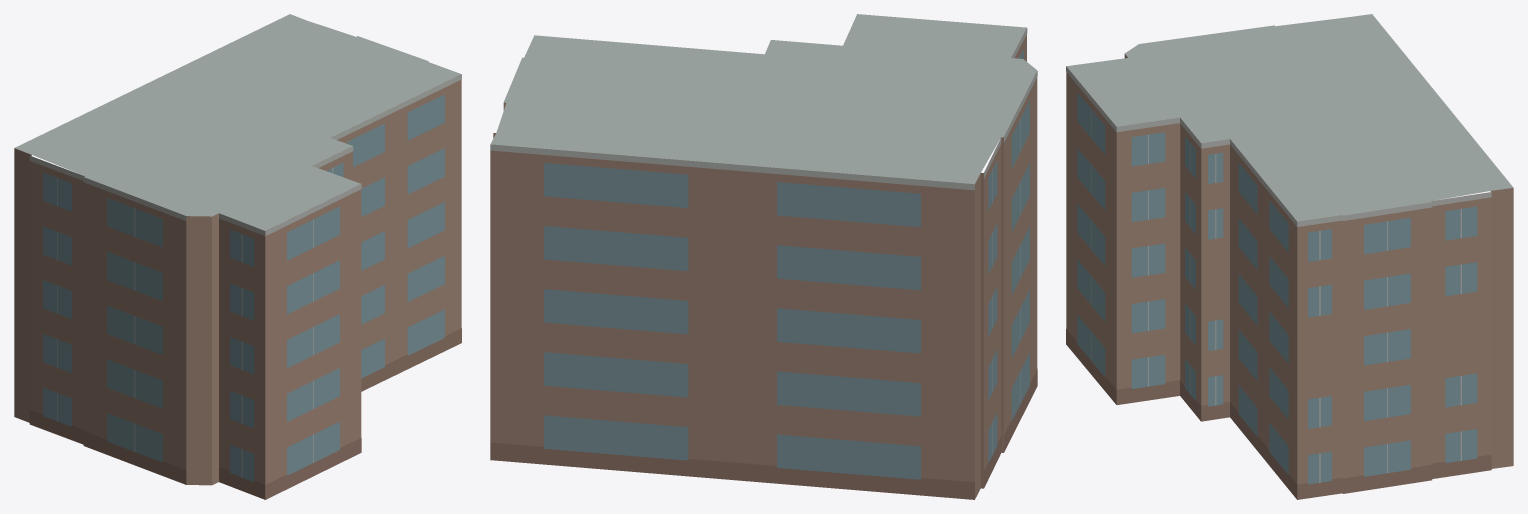
Rendered from survey-upis-32652898.glb.
3 views of the same model, side by side, from view 1: azimuth 30°, elevation 25°; view 2: azimuth 150°, elevation 25°; view 3: azimuth 270°, elevation 25° (orthographic). The views are drawn at different scales.
Parts seen in each view (by area): view 1: survey-upis-32652898.tmp; view 2: survey-upis-32652898.tmp; view 3: survey-upis-32652898.tmp.
Boxes of the visible parts, left/top/right/bottom form: survey-upis-32652898.tmp: left=14, top=14, right=461, bottom=499; survey-upis-32652898.tmp: left=490, top=14, right=1037, bottom=499; survey-upis-32652898.tmp: left=1066, top=14, right=1513, bottom=499.
Bounding box in the file's own units: 20.19 × 12.6 × 18.38.
